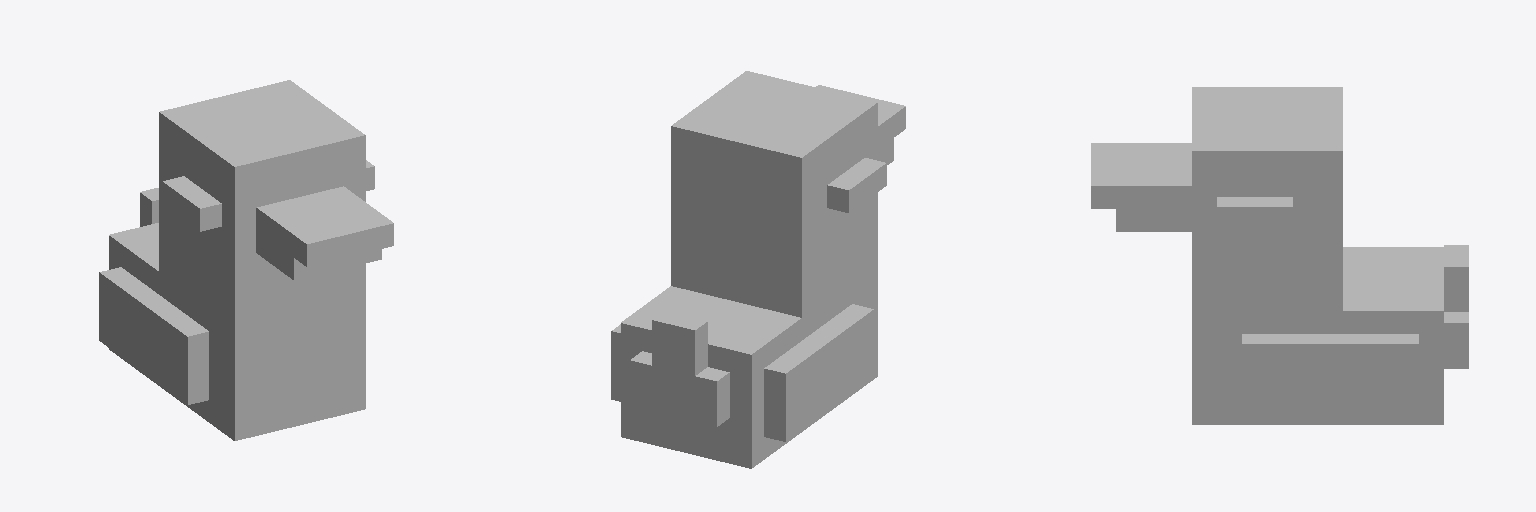
File: duck closed eyes.vox.obj
The picture shows the model from 3 angles: view 1: azimuth 30°, elevation 25°; view 2: azimuth 150°, elevation 25°; view 3: azimuth 270°, elevation 25°; orthographic projection.
Visible parts, largest first — view 1: object 1; view 2: object 1; view 3: object 1.
Part boxes in pixels (x1,y1,x2,y2): object 1: (99,80,393,440); object 1: (611,71,905,468); object 1: (1091,87,1468,424).
Size of the model in its own units: 0.8 by 1.2 by 1.5.